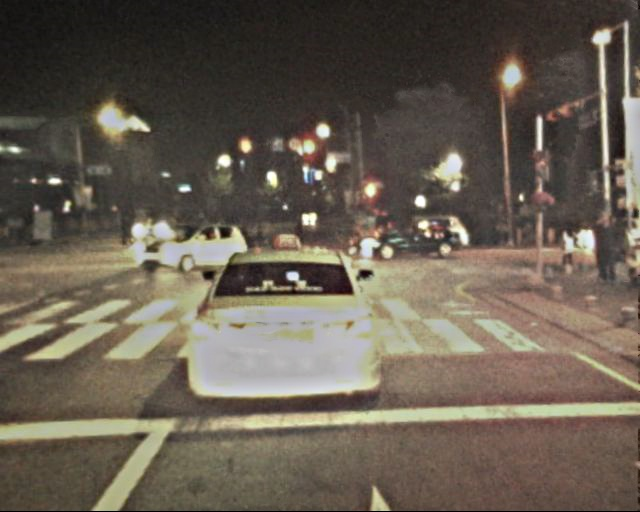person: (590, 212, 620, 285), (164, 211, 244, 236), (558, 227, 578, 276), (113, 210, 137, 245), (497, 214, 513, 254), (289, 215, 303, 250), (250, 215, 263, 246)
